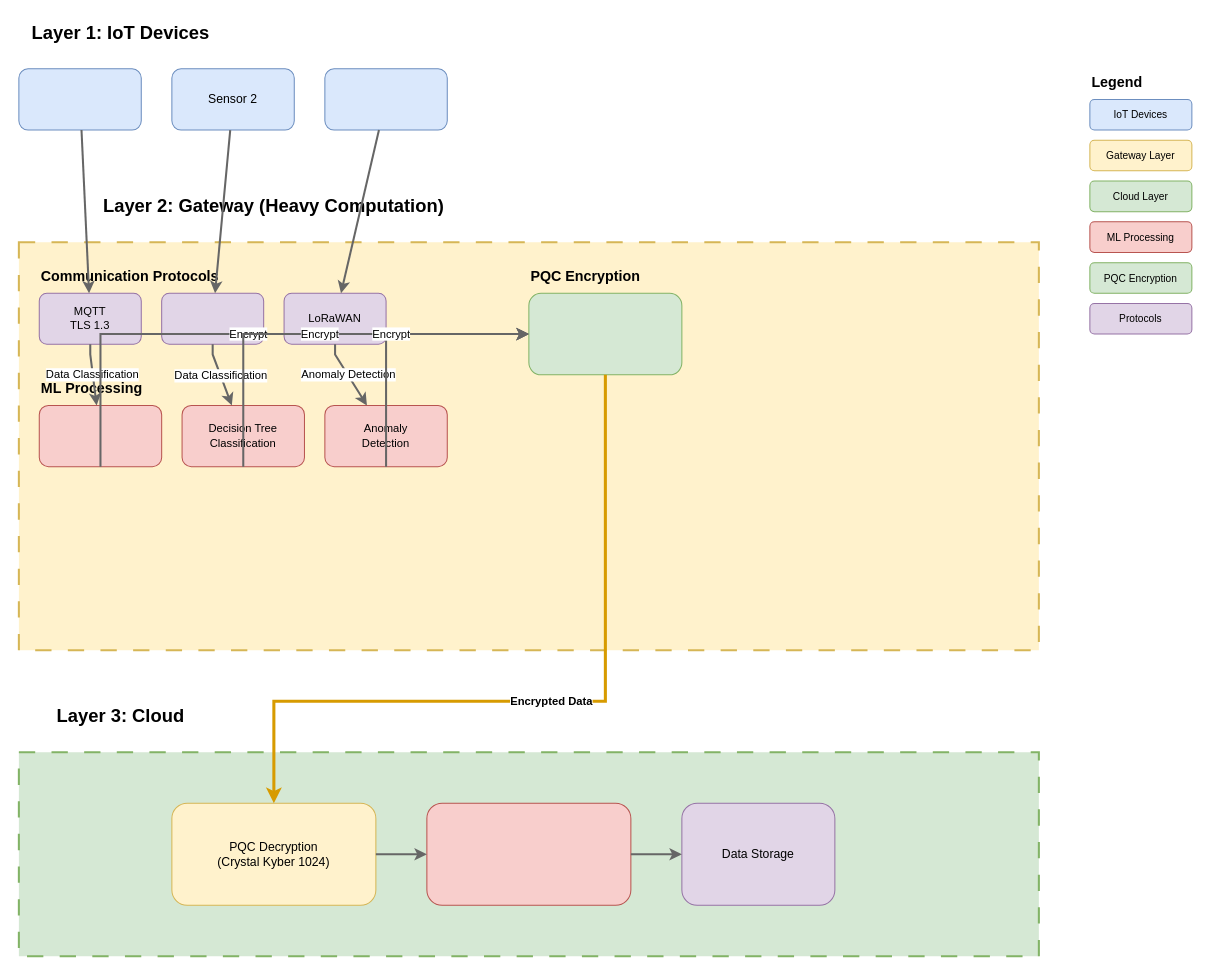
This 1210x974 diagram has some shape labels left out. Each missing label, with the centre of its shape:
Crystal Kyber 1024: [605,333]
ML Anomaly Detection Model: [528,853]
MQTT (Plain): [212,318]
Sensor 1: [79,99]
Sensor N: [385,99]
SVM Classification: [100,435]
